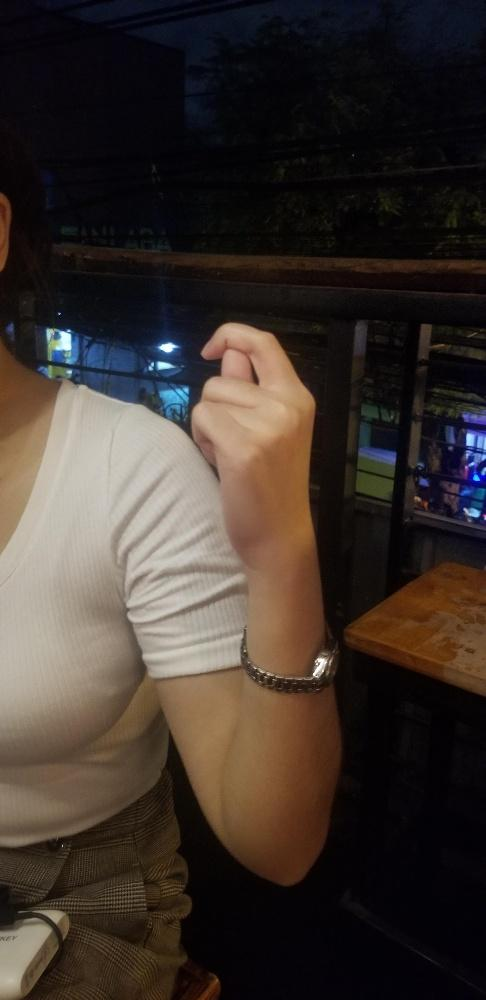t: (188, 321, 316, 572)
